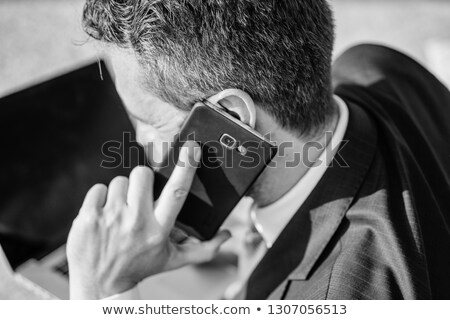phone: (152, 102, 268, 244)
